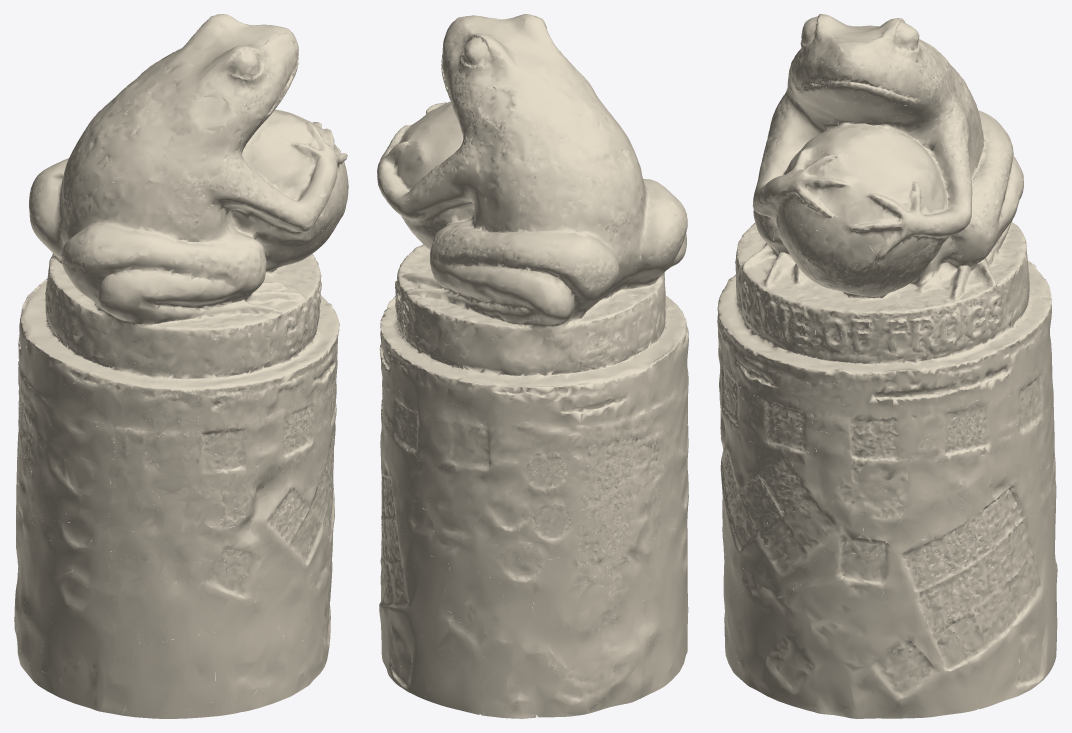
File: Prototype2_web.glb
3 views of the same model, side by side, from view 1: azimuth 30°, elevation 25°; view 2: azimuth 150°, elevation 25°; view 3: azimuth 270°, elevation 25° (orthographic). The views are drawn at different scales.
Parts seen in each view (by area): view 1: Object_1; view 2: Object_1; view 3: Object_1.
Boxes of the visible parts, x1,y1,x2,y2 form: Object_1: (14, 14, 348, 718); Object_1: (377, 14, 688, 718); Object_1: (717, 14, 1057, 718).
Size of the model in its own units: 0.421 by 0.8689 by 0.4079.
